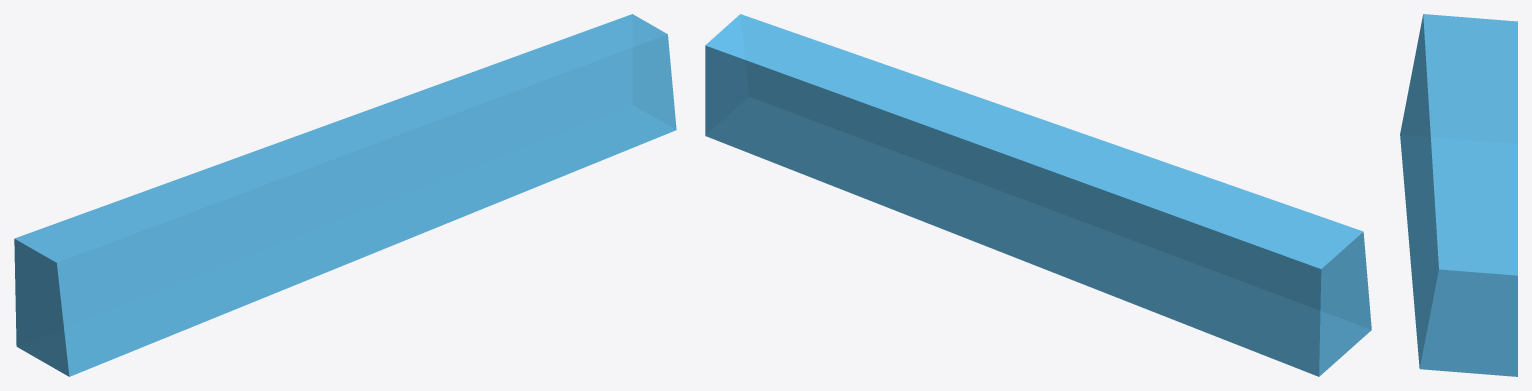
Rendered from Event_420094457_HErechit_24.fbx.
The picture shows the model from 3 angles, left to right: view 1: azimuth 30°, elevation 25°; view 2: azimuth 150°, elevation 25°; view 3: azimuth 270°, elevation 25°; orthographic projection. The views are drawn at different scales.
Visible parts, largest first — view 1: Model; view 2: Model; view 3: Model.
Boxes of the visible parts, left/top/right/bottom form: Model: left=14, top=14, right=676, bottom=376; Model: left=705, top=14, right=1371, bottom=376; Model: left=1400, top=14, right=1517, bottom=376.
Bounding box in the file's own units: 2.03 × 0.5899 × 0.3007.
